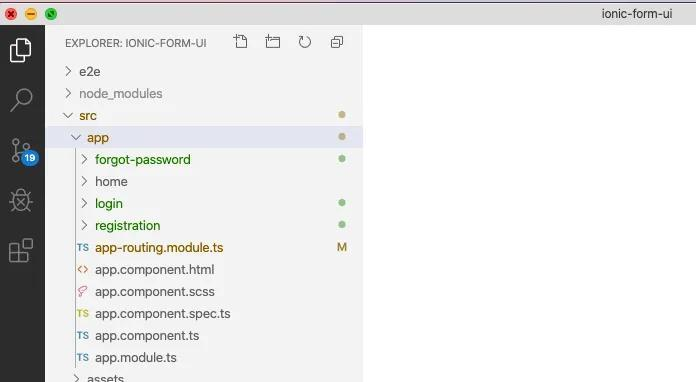icon: (6, 135, 42, 174), (9, 188, 37, 220), (9, 237, 35, 268), (8, 37, 34, 67), (9, 89, 36, 116), (260, 32, 285, 52), (232, 35, 254, 52), (296, 35, 317, 52), (329, 35, 349, 50)
